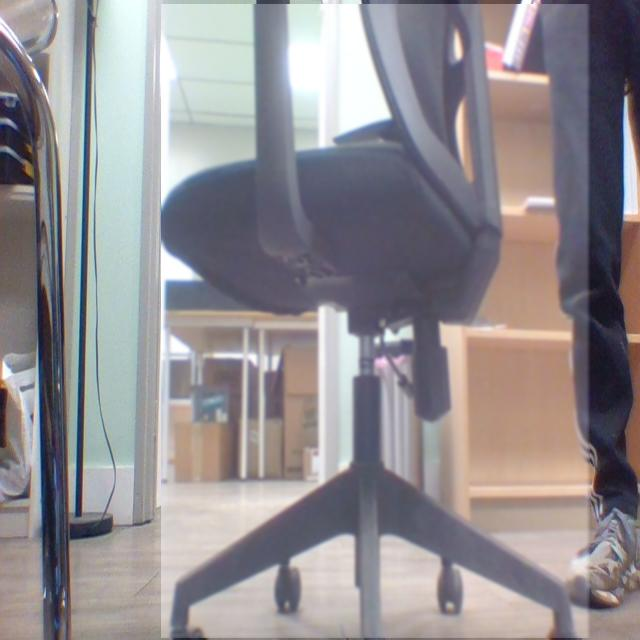black-chair: (162, 4, 592, 639)
